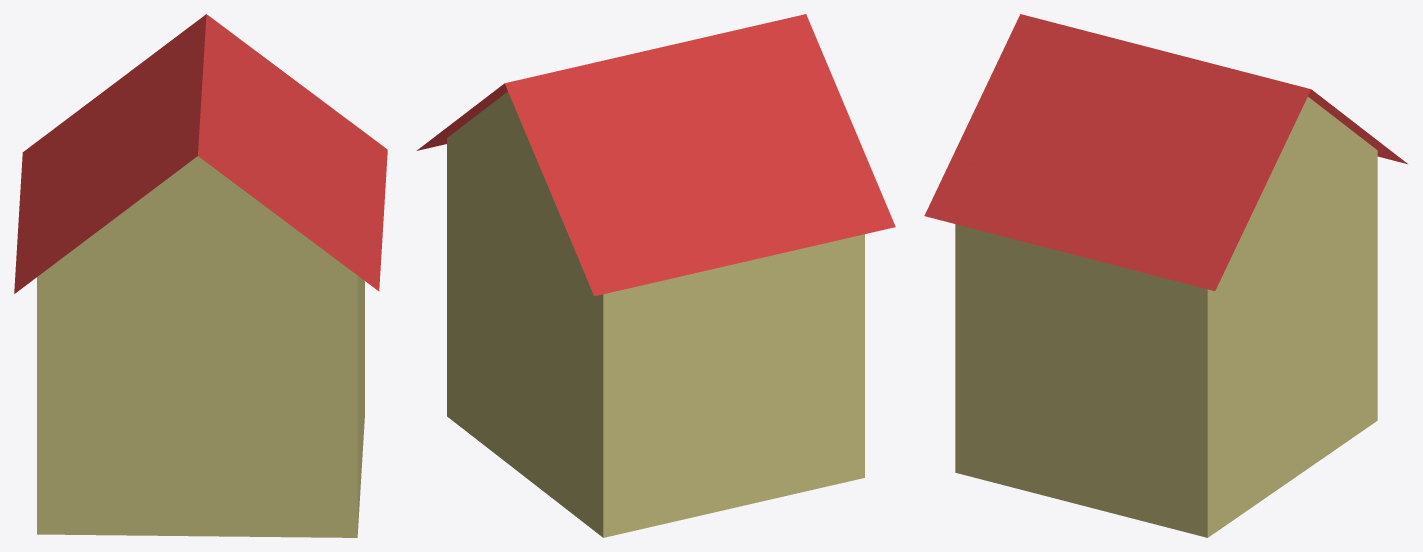
The picture shows the model from 3 angles, left to right: view 1: azimuth 30°, elevation 25°; view 2: azimuth 150°, elevation 25°; view 3: azimuth 270°, elevation 25°; orthographic projection. The views are drawn at different scales.
Size of the model in its own units: 10.95 by 10.74 by 9.67.
